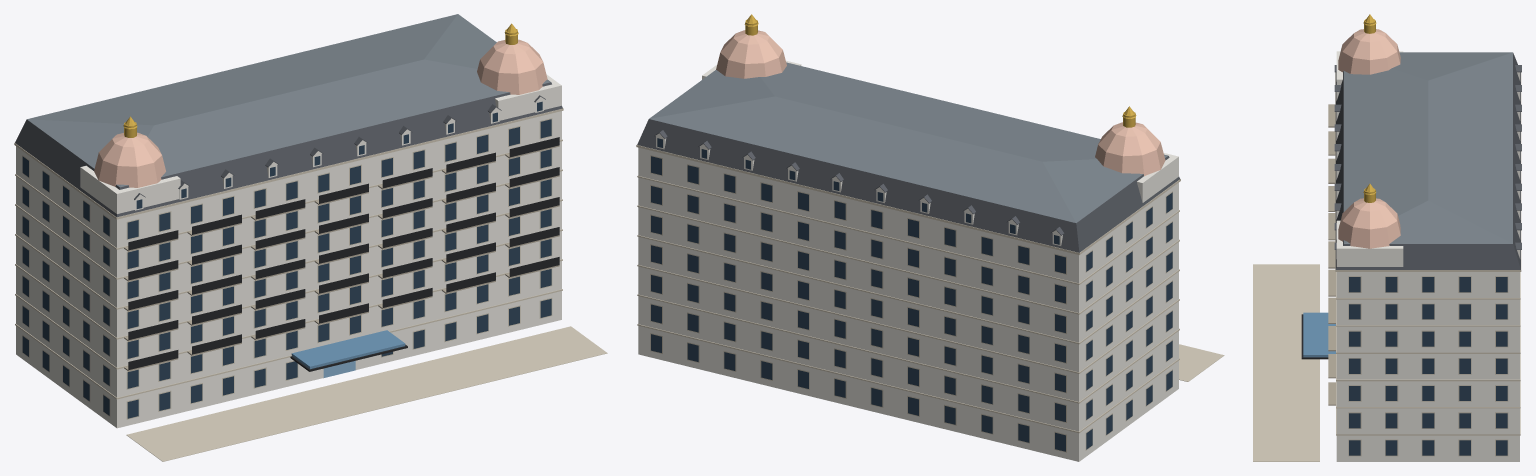
The model's file is palace_belle_epoque.glb.
3 views of the same model, side by side, from view 1: azimuth 30°, elevation 25°; view 2: azimuth 150°, elevation 25°; view 3: azimuth 270°, elevation 25° (orthographic). The views are drawn at different scales.
Parts seen in each view (by area): view 1: palace_belle_epoque; view 2: palace_belle_epoque; view 3: palace_belle_epoque.
Part boxes in pixels (x1,y1,x2,y2): palace_belle_epoque: (14, 14, 607, 461); palace_belle_epoque: (636, 14, 1224, 461); palace_belle_epoque: (1253, 14, 1521, 461).
Bounding box in the file's own units: 56.3 × 35 × 32.21.
1 material, 1 textured.
